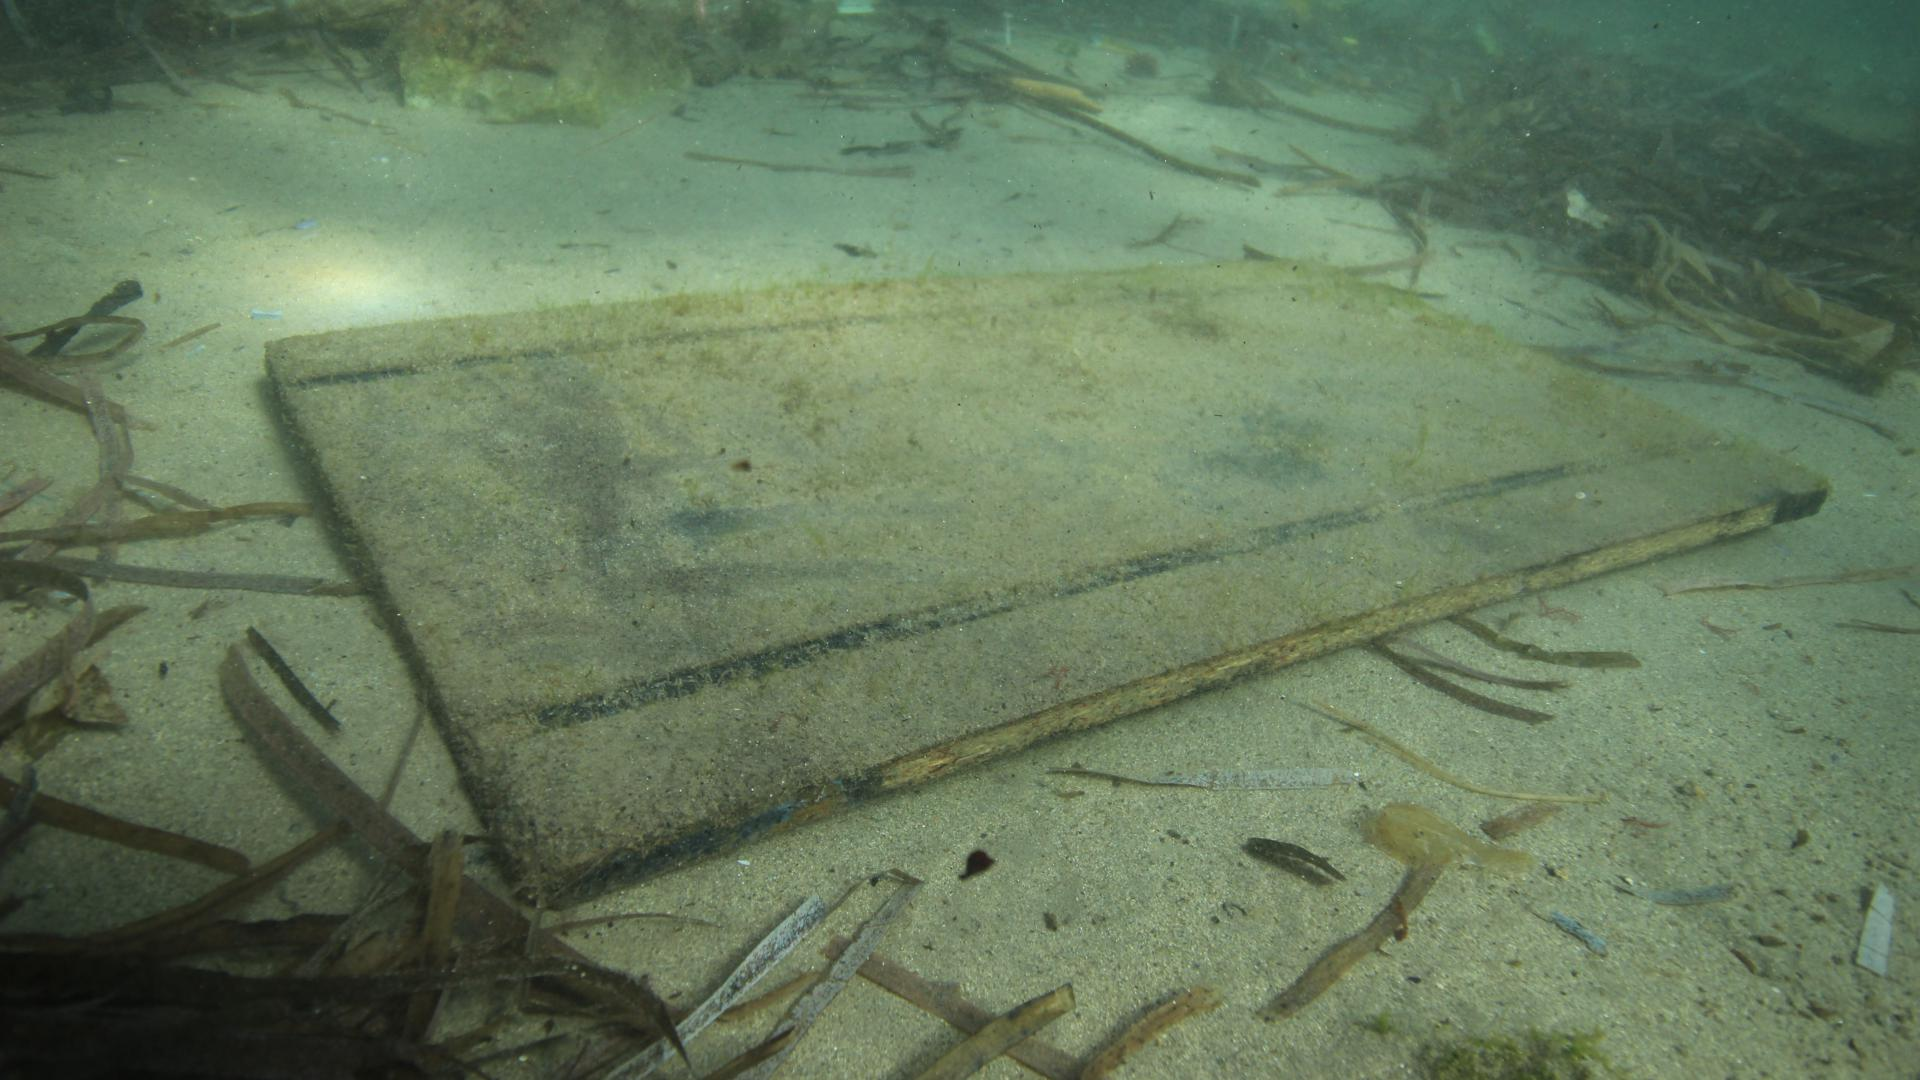wood: (266, 256, 1832, 915)
